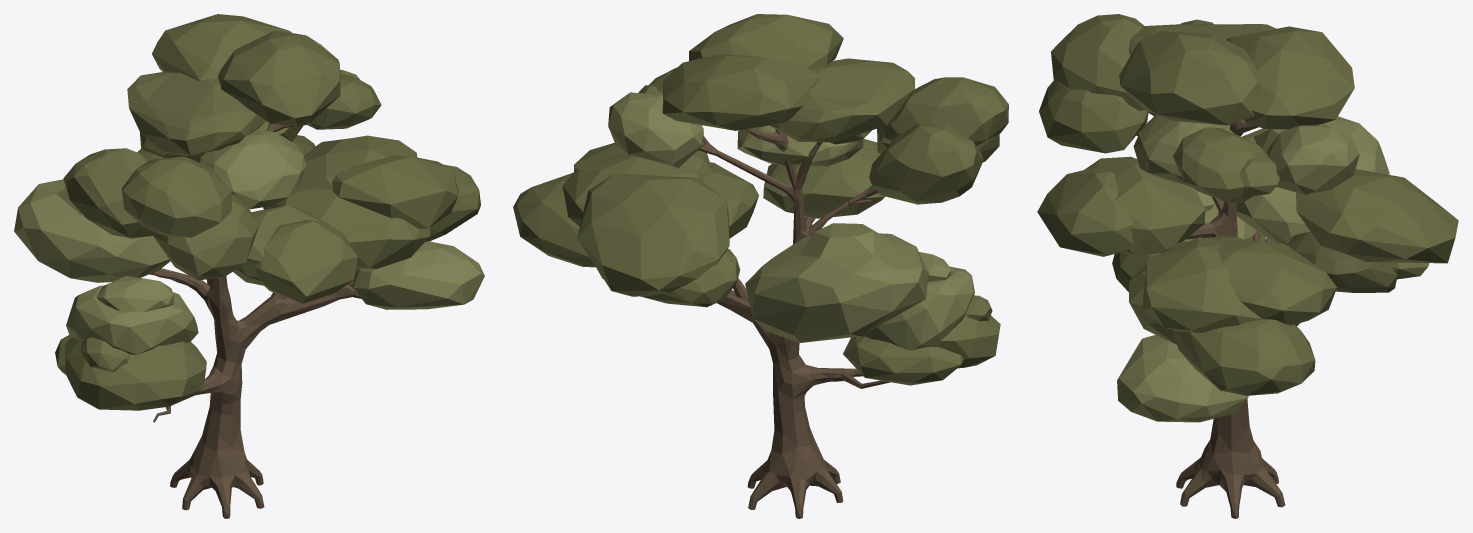
Rendered from SM_Envr_Nature_Tree_Large_02.fbx.
3 renders of one model, left to right at view 1: azimuth 30°, elevation 25°; view 2: azimuth 150°, elevation 25°; view 3: azimuth 270°, elevation 25°, orthographic. The views are drawn at different scales.
Visible parts, largest first — view 1: SM_Envr_Nature_Tree_Large_02; view 2: SM_Envr_Nature_Tree_Large_02; view 3: SM_Envr_Nature_Tree_Large_02.
Boxes of the visible parts, x1,y1,x2,y2 form: SM_Envr_Nature_Tree_Large_02: [14, 14, 484, 518]; SM_Envr_Nature_Tree_Large_02: [513, 14, 1008, 518]; SM_Envr_Nature_Tree_Large_02: [1037, 14, 1458, 518].
Size of the model in its own units: 1107 by 1111 by 885.
